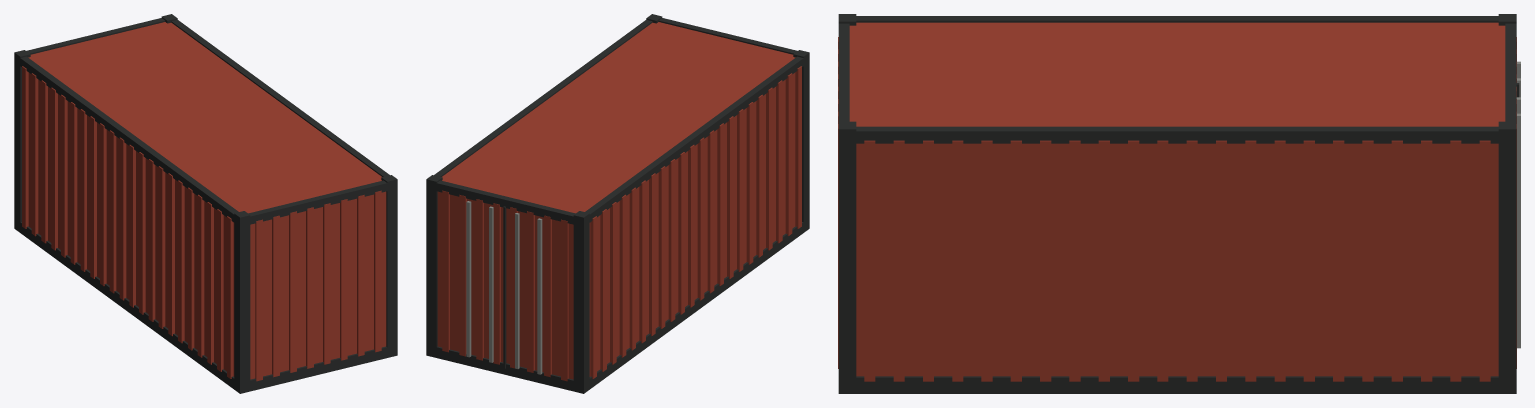
The model's file is container_20ft.glb.
The picture shows the model from 3 angles, left to right: view 1: azimuth 30°, elevation 25°; view 2: azimuth 150°, elevation 25°; view 3: azimuth 270°, elevation 25°; orthographic projection. The views are drawn at different scales.
Visible parts, largest first — view 1: Shipping_Container_20ft - Container - paint, Shipping_Container_20ft - Truck - dark metal; view 2: Shipping_Container_20ft - Container - paint, Shipping_Container_20ft - Truck - dark metal, Shipping_Container_20ft - Truck - steel; view 3: Shipping_Container_20ft - Container - paint, Shipping_Container_20ft - Truck - dark metal, Shipping_Container_20ft - Truck - steel.
Part boxes in pixels (left/top/right/bottom): Shipping_Container_20ft - Container - paint: left=22, top=22, right=386, bottom=381; Shipping_Container_20ft - Truck - dark metal: left=14, top=14, right=397, bottom=393; Shipping_Container_20ft - Container - paint: left=437, top=22, right=801, bottom=381; Shipping_Container_20ft - Truck - dark metal: left=426, top=14, right=809, bottom=393; Shipping_Container_20ft - Truck - steel: left=466, top=201, right=542, bottom=374; Shipping_Container_20ft - Container - paint: left=838, top=22, right=1516, bottom=381; Shipping_Container_20ft - Truck - dark metal: left=838, top=14, right=1519, bottom=393; Shipping_Container_20ft - Truck - steel: left=1516, top=61, right=1520, bottom=348.
Size of the model in its own units: 2.47 by 2.61 by 6.11.
